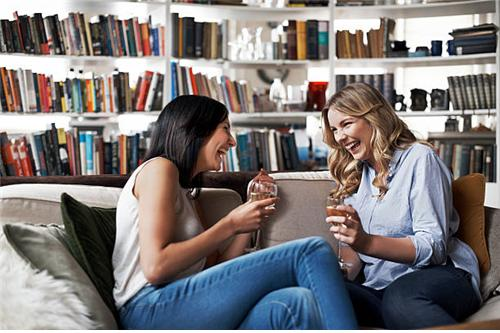alcohol: (245, 182, 278, 253), (326, 196, 353, 271)
